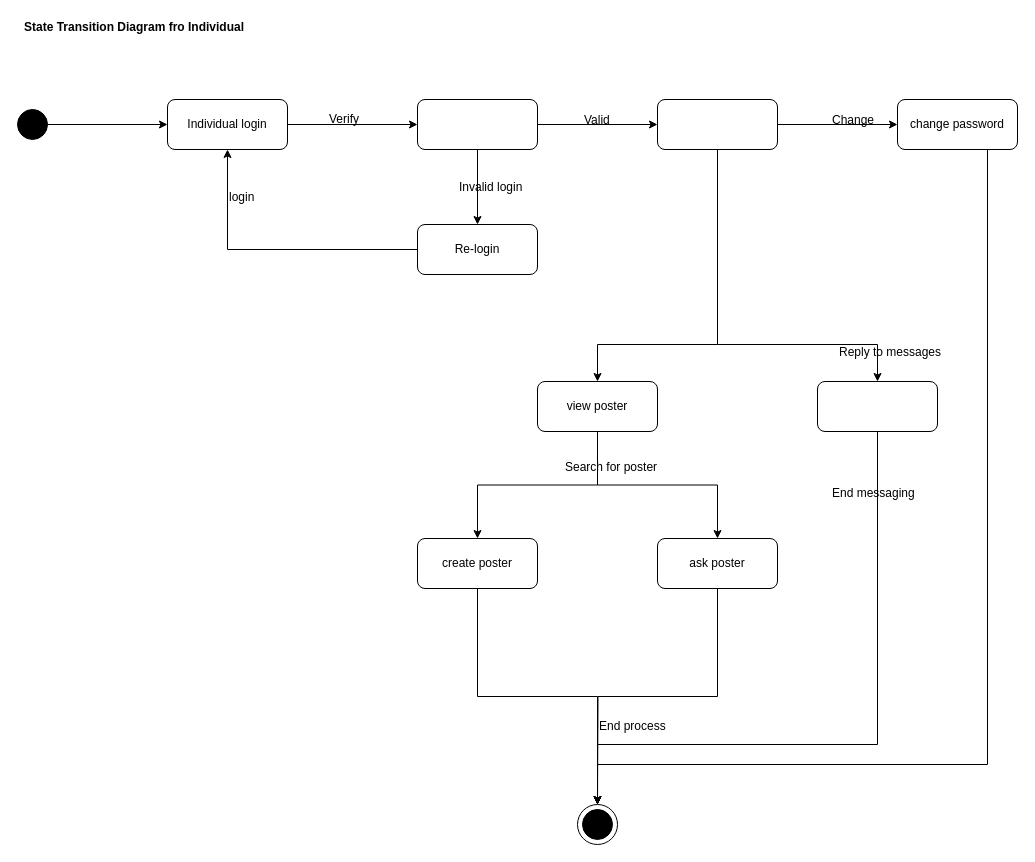
This 1035x862 diagram has some shape labels left out. The shapes that lost their labels are listed below. From the top down, each one's centre as x and y in pixels, then its label:
At (x=477, y=124): "verification".
At (x=717, y=124): "access account".
At (x=877, y=406): "Messaging system".
